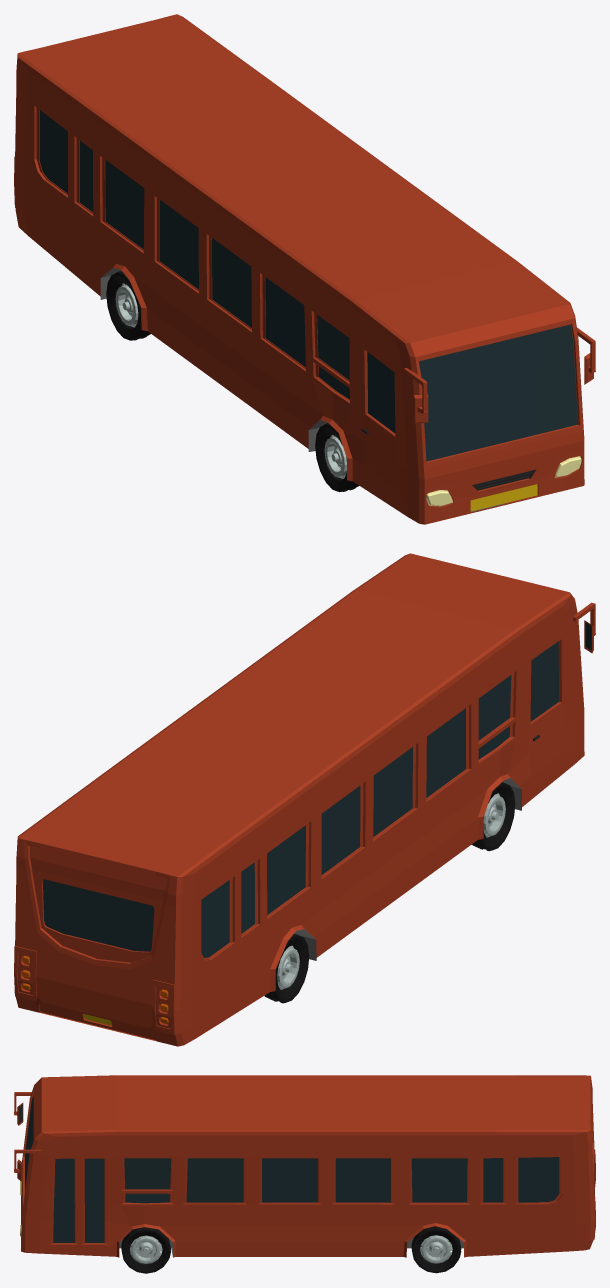
The model's file is CHD Bus.fbx.
3 views of the same model, one above another, from view 1: azimuth 30°, elevation 25°; view 2: azimuth 150°, elevation 25°; view 3: azimuth 270°, elevation 25° (orthographic). The views are drawn at different scales.
Parts seen in each view (by area): view 1: Body.001, Backright Wheel.001, Frontright Wheel.001; view 2: Body.001, Backright Wheel.001, Frontright Wheel.001; view 3: Body.001, Frontleft Wheel, BackleftWheel.
Part boxes in pixels (x1,y1,x2,y2): Body.001: (14,14,595,524); Backright Wheel.001: (106,271,150,340); Frontright Wheel.001: (315,423,359,492); Body.001: (14,553,595,1046); Backright Wheel.001: (264,934,309,1003); Frontright Wheel.001: (471,782,515,851); Body.001: (14,1075,595,1257); Frontleft Wheel: (121,1227,170,1273); BackleftWheel: (411,1226,461,1273).
Bounding box in the file's own units: 208 × 228 × 839.
Materials: 4 (1 with a texture image).
